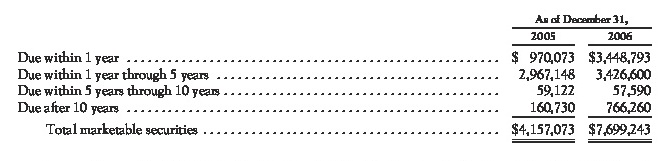table: (0, 0, 667, 161)
